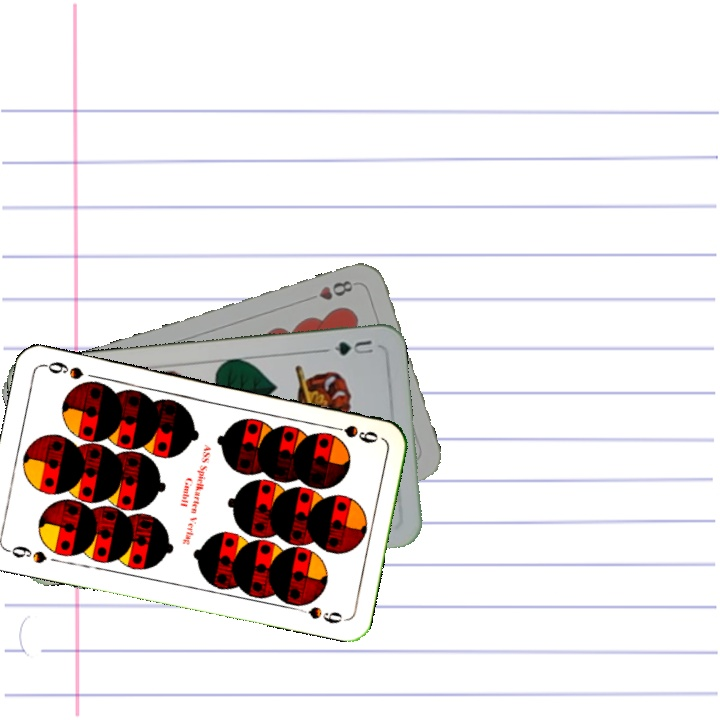GU: (320, 336, 376, 359)
H8: (314, 276, 359, 303)
S9: (324, 421, 381, 446), (2, 541, 49, 566)
